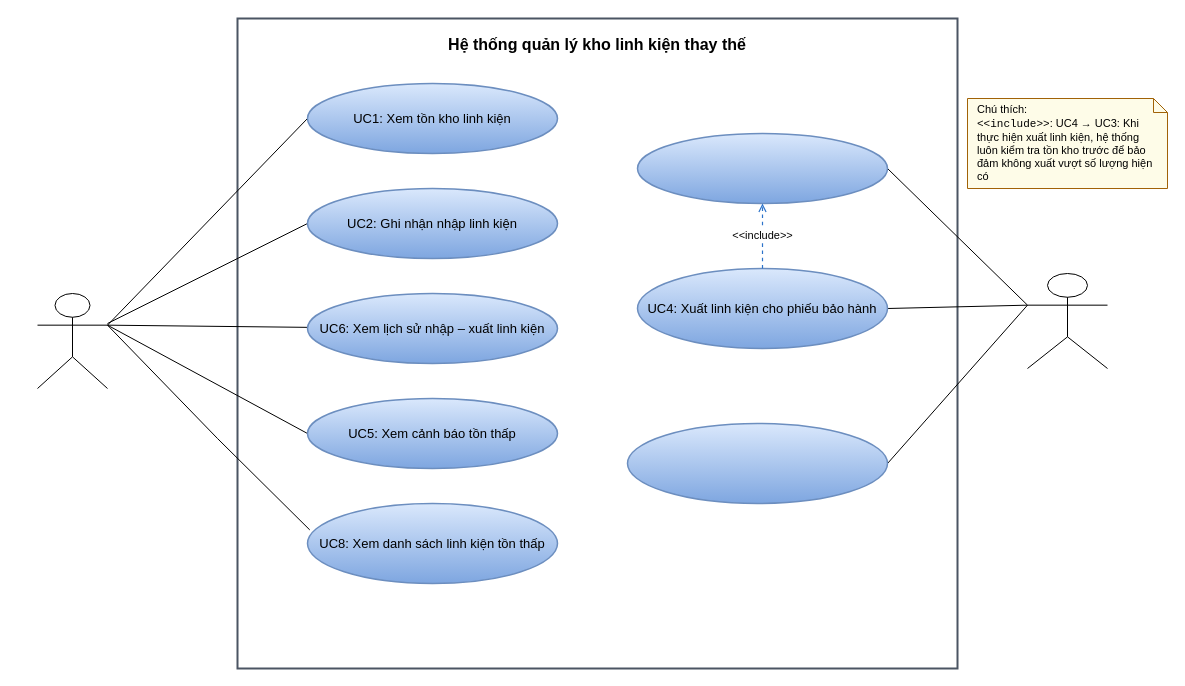
This 1185x686 diagram has some shape labels left out. The box of each missing label's shape, as (x1, y1, x2, y2) in pixels:
Kỹ thuật viên: (1026, 272, 1108, 368)
Quản lý trung tâm: (36, 292, 108, 388)
UC3: Kiểm tra tồn kho linh kiện: (636, 132, 888, 204)
UC7: Xem linh kiện đã xuất cho phiếu bảo hành: (626, 422, 888, 504)
